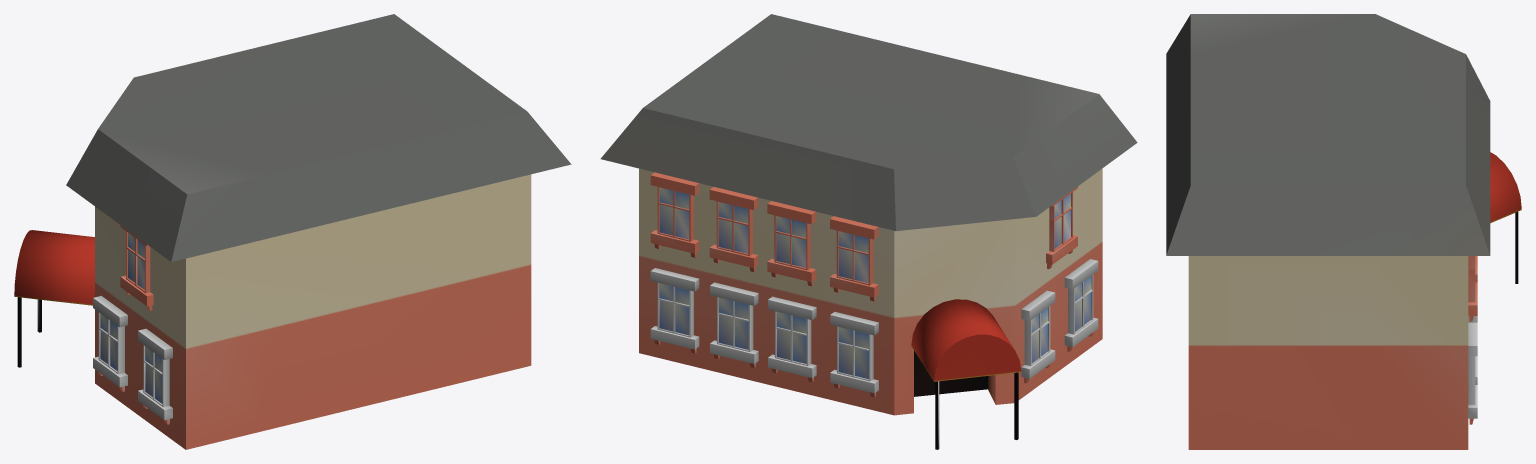
The model's file is Bar.fbx.
3 renders of one model, left to right at view 1: azimuth 30°, elevation 25°; view 2: azimuth 150°, elevation 25°; view 3: azimuth 270°, elevation 25°, orthographic. The views are drawn at different scales.
Parts seen in each view (by area): view 1: Cube.012; view 2: Cube.012; view 3: Cube.012.
Boxes of the visible parts, <box> form: Cube.012: <box>14,14,571,449</box>; Cube.012: <box>600,14,1137,449</box>; Cube.012: <box>1166,14,1521,449</box>.
Size of the model in its own units: 1691 by 986 by 1203.
